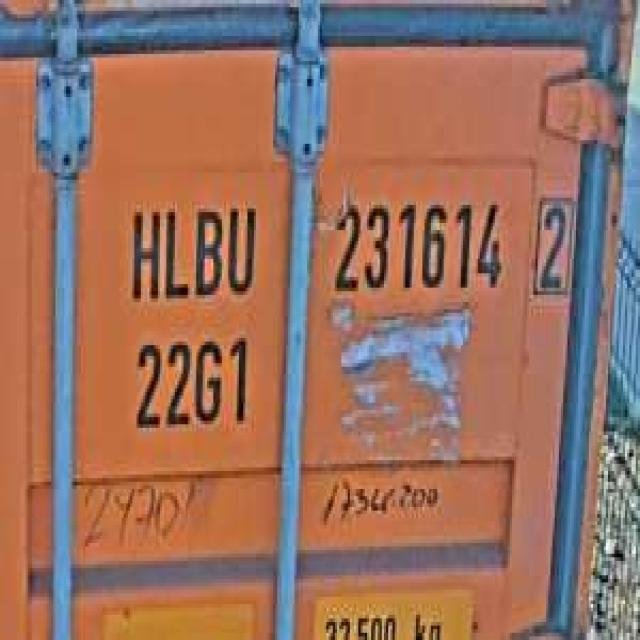dv: (527, 184, 576, 306)
owner: (124, 187, 260, 306)
serial: (327, 183, 506, 310)
size: (128, 327, 256, 442)
